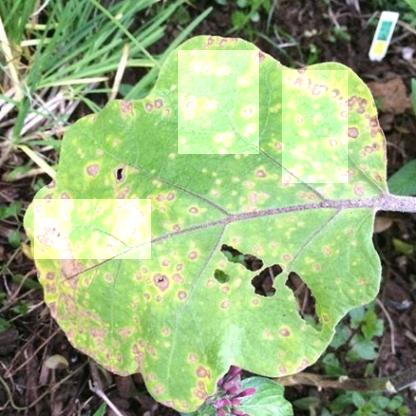black-spot: (178, 51, 259, 154), (282, 70, 348, 183), (34, 199, 151, 259), (115, 244, 205, 321)
